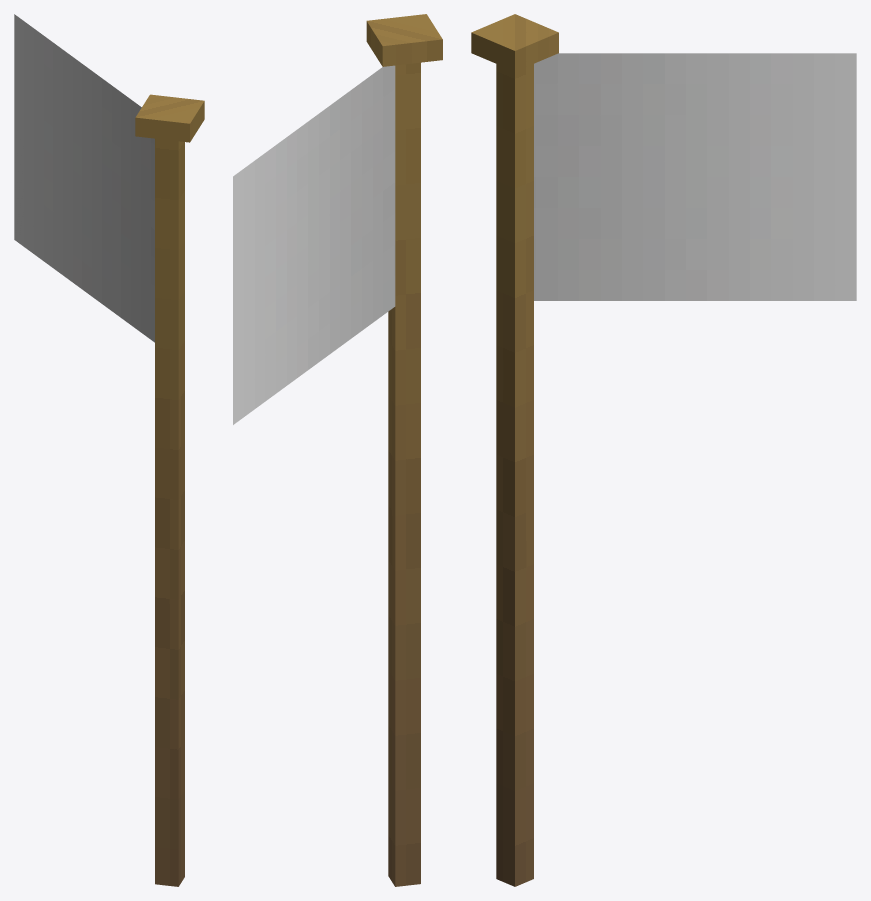
Rendered from flag.glb.
3 views of the same model, side by side, from view 1: azimuth 30°, elevation 25°; view 2: azimuth 150°, elevation 25°; view 3: azimuth 270°, elevation 25° (orthographic). The views are drawn at different scales.
Parts seen in each view (by area): view 1: Flag, Base; view 2: Flag, Base; view 3: Flag, Base.
Boxes of the visible parts, box(x1,y1,x2,y2) form: Flag: box(14, 14, 154, 342); Base: box(135, 94, 204, 886); Flag: box(233, 65, 395, 424); Base: box(366, 14, 442, 886); Flag: box(534, 53, 856, 300); Base: box(471, 14, 558, 886).
Bounding box in the file's own units: 0.3851 × 4.1 × 1.69.
2 materials, 2 textured.
